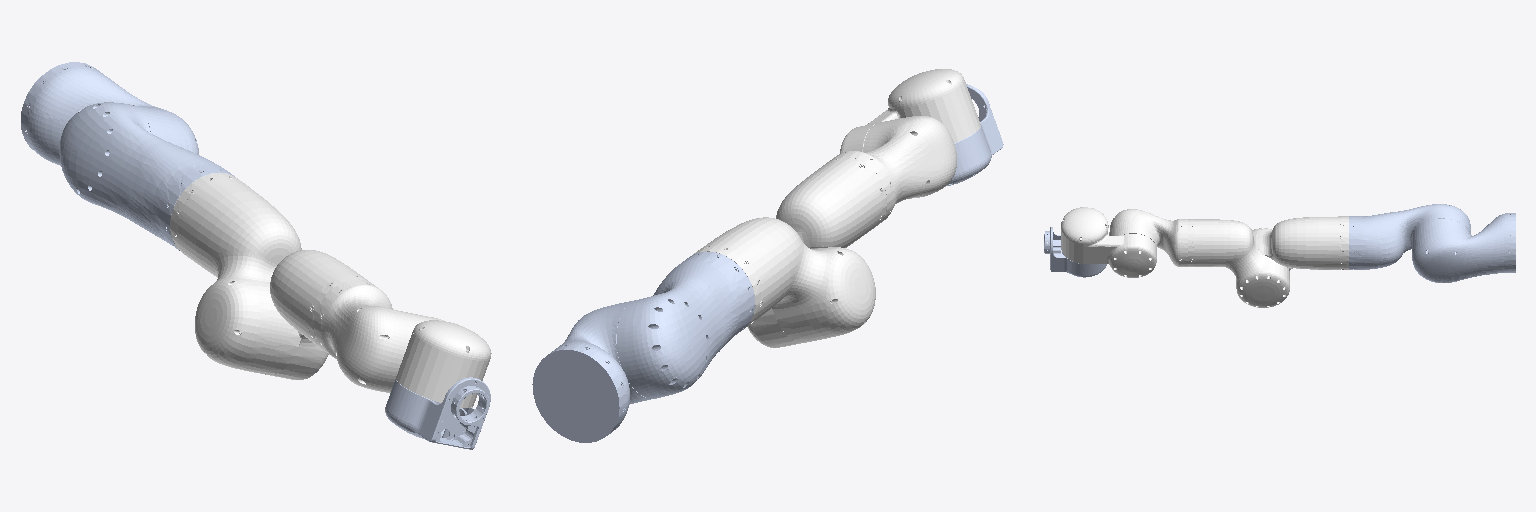
URDF robot description (装配体.SLDASM):
<?xml version="1.0" encoding="utf-8"?>
<!-- This URDF was automatically created by SolidWorks to URDF Exporter! Originally created by Stephen Brawner (brawner@gmail.com)
     Commit Version: 1.6.0-4-g7f85cfe  Build Version: 1.6.7995.38578
     For more information, please see http://wiki.ros.org/sw_urdf_exporter -->
<robot name="装配体.SLDASM">
  <link name="base_link">
    <inertial>
      <origin xyz="0.0115781421480229 -0.164999972684203 -0.249284032931506" rpy="0 0 0" />
      <mass value="10.4149471202802" />
      <inertia ixx="0.126077719710666" ixy="-1.04875106067345E-06" ixz="8.13149512998869E-07" iyy="0.126889231983544" iyz="-5.95987193257436E-07" izz="0.0271091501124813" />
    </inertial>
    <visual>
      <origin xyz="0 0 0" rpy="0 0 0" />
      <geometry>
        <mesh filename="meshes/base_link.STL" />
      </geometry>
      <material name="">
        <color rgba="1 1 1 1" />
      </material>
    </visual>
    <collision>
      <origin xyz="0 0 0" rpy="0 0 0" />
      <geometry>
        <mesh filename="meshes/base_link.STL" />
      </geometry>
    </collision>
  </link>
  <link name="Right_Link1">
    <inertial>
      <origin xyz="0.0165214532159615 -0.000239813642650383 0.0876376665081489" rpy="0 0 0" />
      <mass value="2.64616676953452" />
      <inertia ixx="0.00810772932503254" ixy="4.28531752071978E-06" ixz="-0.000960611156964986" iyy="0.00785753736018334" iyz="-2.34113893695444E-05" izz="0.00281153441477445" />
    </inertial>
    <visual>
      <origin xyz="0 0 0" rpy="0 0 0" />
      <geometry>
        <mesh filename="meshes/Right_Link1.STL" />
      </geometry>
      <material name="">
        <color rgba="0.866666666666667 0.909803921568627 1 1" />
      </material>
    </visual>
    <collision>
      <origin xyz="0 0 0" rpy="0 0 0" />
      <geometry>
        <mesh filename="meshes/Right_Link1.STL" />
      </geometry>
    </collision>
  </link>
  <joint name="Right_Joint1" type="revolute">
    <origin xyz="0.011578 -0.267 0.091501" rpy="1.5708 0.3927 0" />
    <parent link="base_link" />
    <child link="Right_Link1" />
    <axis xyz="0 0 1" />
    <limit lower="-2.8797932657906435" upper="2.8797932657906435" effort="30.0" velocity="2.0" />
  </joint>
  <link name="Right_Link2">
    <inertial>
      <origin xyz="0.0685822566396352 7.22580008757912E-07 0.00578865088328227" rpy="0 0 0" />
      <mass value="2.60802664440413" />
      <inertia ixx="0.00287355307641272" ixy="-1.85715491924803E-06" ixz="0.00208960043017607" iyy="0.0101273486150658" iyz="-4.92729091266405E-08" izz="0.00995476277702387" />
    </inertial>
    <visual>
      <origin xyz="0 0 0" rpy="0 0 0" />
      <geometry>
        <mesh filename="meshes/Right_Link2.STL" />
      </geometry>
      <material name="">
        <color rgba="0.866666666666667 0.909803921568627 1 1" />
      </material>
    </visual>
    <collision>
      <origin xyz="0 0 0" rpy="0 0 0" />
      <geometry>
        <mesh filename="meshes/Right_Link2.STL" />
      </geometry>
    </collision>
  </link>
  <joint name="Right_Joint2" type="revolute">
    <origin xyz="-0.01 -1.0268E-05 0.13056" rpy="0 -1.5708 0" />
    <parent link="Right_Link1" />
    <child link="Right_Link2" />
    <axis xyz="0 0 1" />
    <limit lower="-2.0943951023931953" upper="2.0943951023931953" effort="30.0" velocity="2.0" />
  </joint>
  <link name="Right_Link3">
    <inertial>
      <origin xyz="-0.00843637756883452 -0.0229995887077534 0.0911584621327549" rpy="0 0 0" />
      <mass value="1.18092876500138" />
      <inertia ixx="0.00462539576887829" ixy="-0.000353063295739382" ixz="0.000505618768575648" iyy="0.00375389482914515" iyz="0.00140157843105859" izz="0.00220670625582811" />
    </inertial>
    <visual>
      <origin xyz="0 0 0" rpy="0 0 0" />
      <geometry>
        <mesh filename="meshes/Right_Link3.STL" />
      </geometry>
      <material name="">
        <color rgba="1 1 1 1" />
      </material>
    </visual>
    <collision>
      <origin xyz="0 0 0" rpy="0 0 0" />
      <geometry>
        <mesh filename="meshes/Right_Link3.STL" />
      </geometry>
    </collision>
  </link>
  <joint name="Right_Joint3" type="revolute">
    <origin xyz="0.15603 1.0268E-05 -0.0106" rpy="0 1.5708 0" />
    <parent link="Right_Link2" />
    <child link="Right_Link3" />
    <axis xyz="0 0 1" />
    <limit lower="-2.8797932657906435" upper="2.8797932657906435" effort="30.0" velocity="2.0" />
  </joint>
  <link name="Right_Link4">
    <inertial>
      <origin xyz="0.0491620018625096 -0.038901142630353 -0.00190980477611477" rpy="0 0 0" />
      <mass value="0.77669656389258" />
      <inertia ixx="0.0013843823216911" ixy="0.000783781240427268" ixz="0.000480368706893704" iyy="0.00202461696315155" iyz="-0.000372959646452941" izz="0.00250407717475406" />
    </inertial>
    <visual>
      <origin xyz="0 0 0" rpy="0 0 0" />
      <geometry>
        <mesh filename="meshes/Right_Link4.STL" />
      </geometry>
      <material name="">
        <color rgba="1 1 1 1" />
      </material>
    </visual>
    <collision>
      <origin xyz="0 0 0" rpy="0 0 0" />
      <geometry>
        <mesh filename="meshes/Right_Link4.STL" />
      </geometry>
    </collision>
  </link>
  <joint name="Right_Joint4" type="revolute">
    <origin xyz="0.0145 -0.06 0.1434" rpy="3.14 -1.5708 0" />
    <parent link="Right_Link3" />
    <child link="Right_Link4" />
    <axis xyz="0 0 1" />
    <limit lower="-0.05235987755982989" upper="2.9670597283903604" effort="30.0" velocity="2.0" />
  </joint>
  <link name="Right_Link5">
    <inertial>
      <origin xyz="-0.0133594403923385 1.21002539404946E-07 0.0654681296167375" rpy="0 0 0" />
      <mass value="0.514432219520791" />
      <inertia ixx="0.0009375192338613" ixy="1.13571205474256E-08" ixz="0.000117559904056488" iyy="0.000953812310412444" iyz="-1.32549216013262E-08" izz="0.000390839181176558" />
    </inertial>
    <visual>
      <origin xyz="0 0 0" rpy="0 0 0" />
      <geometry>
        <mesh filename="meshes/Right_Link5.STL" />
      </geometry>
      <material name="">
        <color rgba="1 1 1 1" />
      </material>
    </visual>
    <collision>
      <origin xyz="0 0 0" rpy="0 0 0" />
      <geometry>
        <mesh filename="meshes/Right_Link5.STL" />
      </geometry>
    </collision>
  </link>
  <joint name="Right_Joint5" type="revolute">
    <origin xyz="0.1264 -0.06 -0.0151" rpy="3.14 -1.5707  0" />
    <parent link="Right_Link4" />
    <child link="Right_Link5" />
    <axis xyz="0 0 1" />
    <limit lower="-2.8797932657906435" upper="2.8797932657906435" effort="30.0" velocity="2.0" />
  </joint>
  <link name="Right_Link6">
    <inertial>
      <origin xyz="0.0489114733946453 -0.0108276152719367 -0.00149910042920012" rpy="0 0 0" />
      <mass value="0.454168455260558" />
      <inertia ixx="0.000377375258308447" ixy="0.00012264931121645" ixz="0.000260408400333536" iyy="0.00106310749068169" iyz="-4.63033766892964E-05" izz="0.000975305611224434" />
    </inertial>
    <visual>
      <origin xyz="0 0 0" rpy="0 0 0" />
      <geometry>
        <mesh filename="meshes/Right_Link6.STL" />
      </geometry>
      <material name="">
        <color rgba="1 1 1 1" />
      </material>
    </visual>
    <collision>
      <origin xyz="0 0 0" rpy="0 0 0" />
      <geometry>
        <mesh filename="meshes/Right_Link6.STL" />
      </geometry>
    </collision>
  </link>
  <joint name="Right_Joint6" type="revolute">
    <origin xyz="0.0144 0 0.092" rpy="3.1415926 -1.5708 0" />
    <parent link="Right_Link5" />
    <child link="Right_Link6" />
    <axis xyz="0 0 1" />
    <limit lower="-1.7453292519943295" upper="1.7453292519943295" effort="30.0" velocity="2.0" />
  </joint>
  <link name="Right_Link7">
    <inertial>
      <origin xyz="0.0162267653750229 -0.00106604983527493 0.020681505025884" rpy="0 0 0" />
      <mass value="0.190537564792888" />
      <inertia ixx="0.000156850221403529" ixy="-3.19863162787039E-06" ixz="4.64896303923571E-05" iyy="0.000240455459068551" iyz="8.23093782290209E-07" izz="0.00028150755646602" />
    </inertial>
    <visual>
      <origin xyz="0 0 0" rpy="0 0 0" />
      <geometry>
        <mesh filename="meshes/Right_Link7.STL" />
      </geometry>
      <material name="">
        <color rgba="0.866666666666667 0.909803921568627 1 1" />
      </material>
    </visual>
    <collision>
      <origin xyz="0 0 0" rpy="0 0 0" />
      <geometry>
        <mesh filename="meshes/Right_Link7.STL" />
      </geometry>
    </collision>
  </link>
  <joint name="Right_Joint7" type="revolute">
    <origin xyz="0.081 0.0094 -0.015" rpy="-1.5708 0 0" />
    <parent link="Right_Link6" />
    <child link="Right_Link7" />
    <axis xyz="0 0 1" />
    <limit lower="-1.7453292519943295" upper="1.7453292519943295" effort="30.0" velocity="2.0" />
  </joint>
</robot>

--- What the picture shows (computed from the rendered views, not written in the file) ---
3 views of the same robot in one strip: view 1: azimuth 30°, elevation 25°; view 2: azimuth 150°, elevation 25°; view 3: azimuth 270°, elevation 25° (orthographic).
Robot: 装配体.SLDASM — 8 links, 7 joints (7 revolute); root link base_link; default pose: all joints at 0.
Visible links, largest first — view 1: Right_Link3, Right_Link2, Right_Link5, Right_Link1, Right_Link4, Right_Link6, Right_Link7; view 2: Right_Link2, Right_Link3, Right_Link1, Right_Link4, Right_Link5, Right_Link6, Right_Link7; view 3: Right_Link1, Right_Link4, Right_Link3, Right_Link6, Right_Link2, Right_Link5, Right_Link7.
Boxes of the visible links, x1,y1,x2,y2 form: Right_Link3: (170, 173, 301, 374); Right_Link2: (59, 102, 234, 250); Right_Link5: (313, 279, 425, 392); Right_Link1: (21, 62, 198, 165); Right_Link4: (265, 250, 370, 379); Right_Link6: (396, 315, 491, 407); Right_Link7: (385, 377, 490, 449); Right_Link2: (617, 251, 754, 398); Right_Link3: (693, 217, 875, 342); Right_Link1: (532, 300, 650, 442); Right_Link4: (748, 157, 886, 347); Right_Link5: (830, 116, 956, 225); Right_Link6: (840, 69, 980, 153); Right_Link7: (945, 84, 1003, 186); Right_Link1: (1412, 213, 1515, 282); Right_Link4: (1188, 219, 1289, 307); Right_Link3: (1252, 216, 1348, 270); Right_Link6: (1061, 207, 1156, 277); Right_Link2: (1349, 204, 1470, 269); Right_Link5: (1109, 209, 1187, 266); Right_Link7: (1044, 227, 1106, 277).
Bounding box of the posed robot: 0.1565 × 0.7903 × 0.177 m (x, y, z).
Meshes: 8 distinct files referenced, 7 mesh visuals loaded (7 binary STL); not drawn: 1 (reference not matched to a file when rendering).
